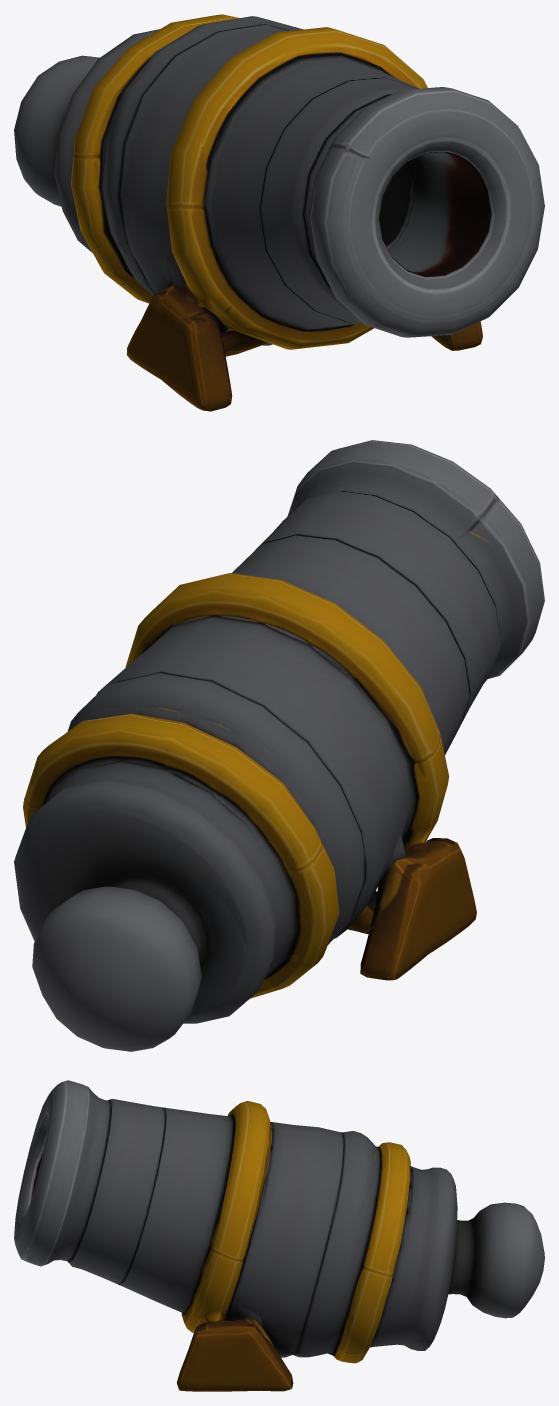
Rendered from Canon.fbx.
The picture shows the model from 3 angles, top to bottom: view 1: azimuth 30°, elevation 25°; view 2: azimuth 150°, elevation 25°; view 3: azimuth 270°, elevation 25°; orthographic projection. The views are drawn at different scales.
Parts seen in each view (by area): view 1: tripo_node_69cd7789; view 2: tripo_node_69cd7789; view 3: tripo_node_69cd7789.
Boxes of the visible parts, bbox=[...] form: tripo_node_69cd7789: bbox=[14, 14, 544, 411]; tripo_node_69cd7789: bbox=[14, 440, 544, 1051]; tripo_node_69cd7789: bbox=[14, 1080, 544, 1391].
Size of the model in its own units: 44.58 by 97.93 by 53.52.
1 material, 1 textured.
